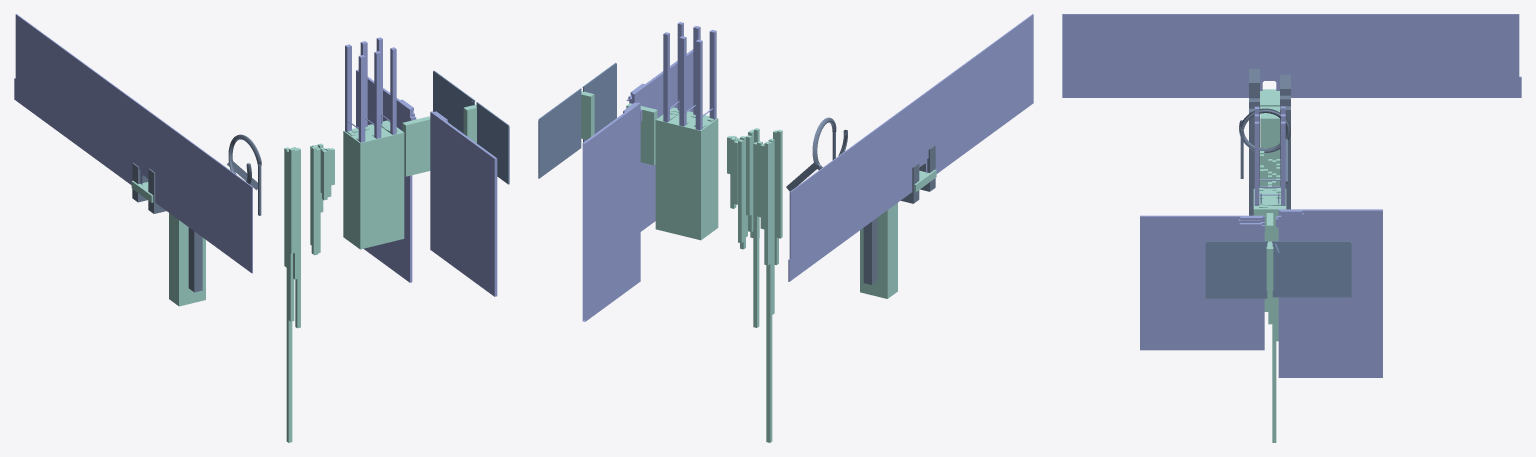
Rendered from level1(final).fbx.
The picture shows the model from 3 angles, left to right: view 1: azimuth 30°, elevation 25°; view 2: azimuth 150°, elevation 25°; view 3: azimuth 270°, elevation 25°; orthographic projection. The views are drawn at different scales.
Visible parts, largest first — view 1: Cube; view 2: Cube; view 3: Cube.
Part boxes in pixels (bbox=[...]): Cube: bbox=[14, 14, 509, 442]; Cube: bbox=[538, 14, 1033, 442]; Cube: bbox=[1062, 14, 1521, 442].
Size of the model in its own units: 64727 by 68641 by 78339.
